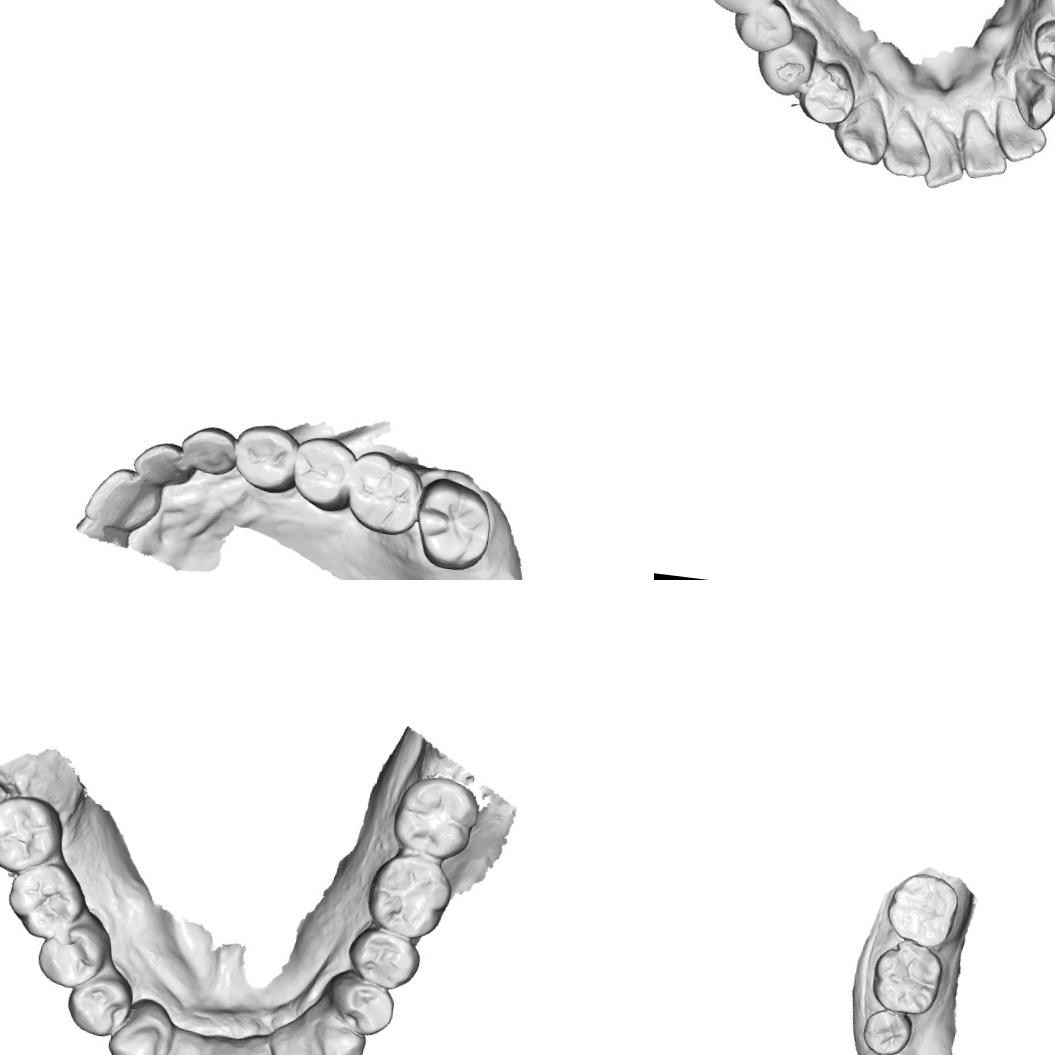canine: (835, 96, 890, 164), (104, 1005, 176, 1055), (1005, 61, 1055, 131), (178, 422, 238, 478), (302, 1013, 369, 1055)
incisor: (81, 462, 166, 533), (990, 97, 1052, 169), (917, 115, 968, 196), (877, 108, 932, 179), (958, 112, 1012, 184), (125, 437, 191, 491), (151, 1040, 208, 1055), (277, 1040, 329, 1055)
molar: (408, 474, 498, 576), (364, 846, 455, 944), (388, 771, 485, 862), (340, 446, 426, 540), (2, 856, 90, 946), (883, 868, 962, 950), (0, 788, 69, 880), (869, 938, 946, 1017), (700, 0, 788, 16)
premolar: (287, 431, 360, 516), (342, 923, 424, 994), (229, 421, 302, 497), (34, 920, 110, 992), (322, 969, 399, 1040), (792, 56, 860, 134), (64, 970, 136, 1042), (752, 31, 816, 101), (729, 0, 796, 53), (860, 1006, 914, 1055), (1031, 17, 1055, 81)
